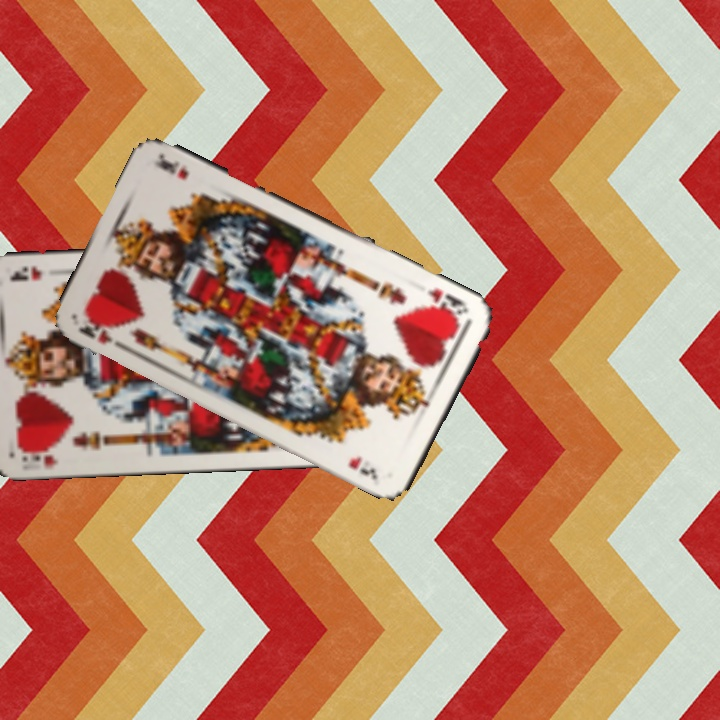HK: (74, 316, 130, 353), (424, 283, 471, 321), (15, 443, 61, 471)
